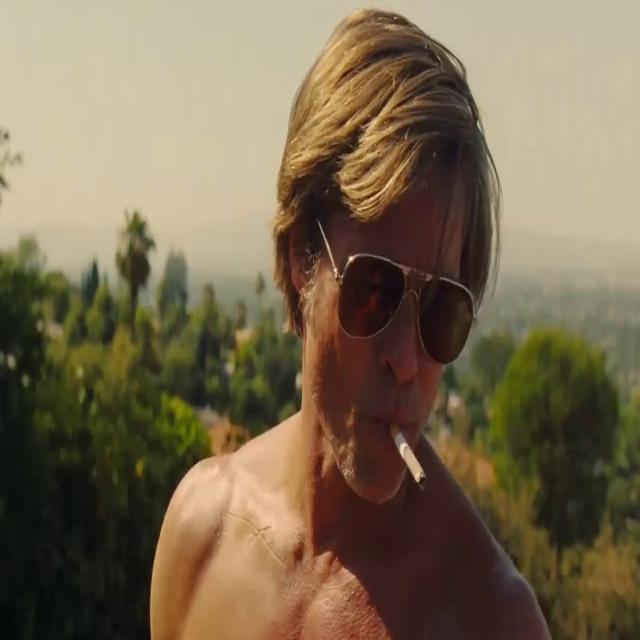Smooking: (395, 414, 436, 504)
